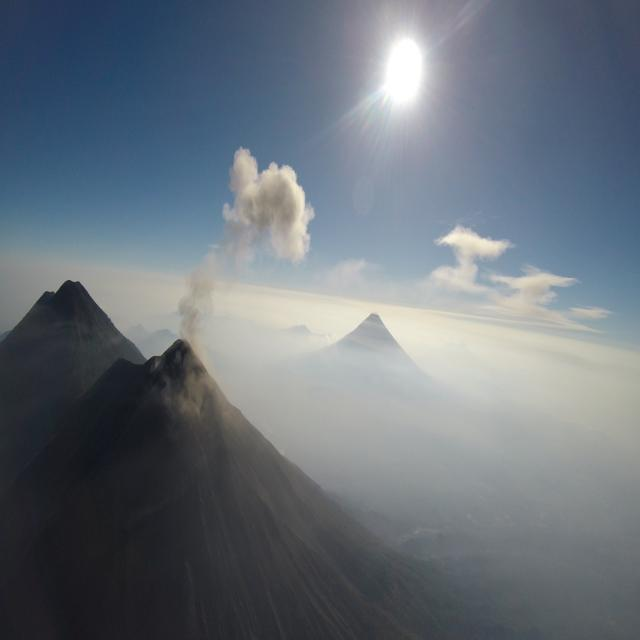Plume: (223, 144, 314, 270), (177, 245, 226, 342)
Summit: (96, 338, 212, 397)
